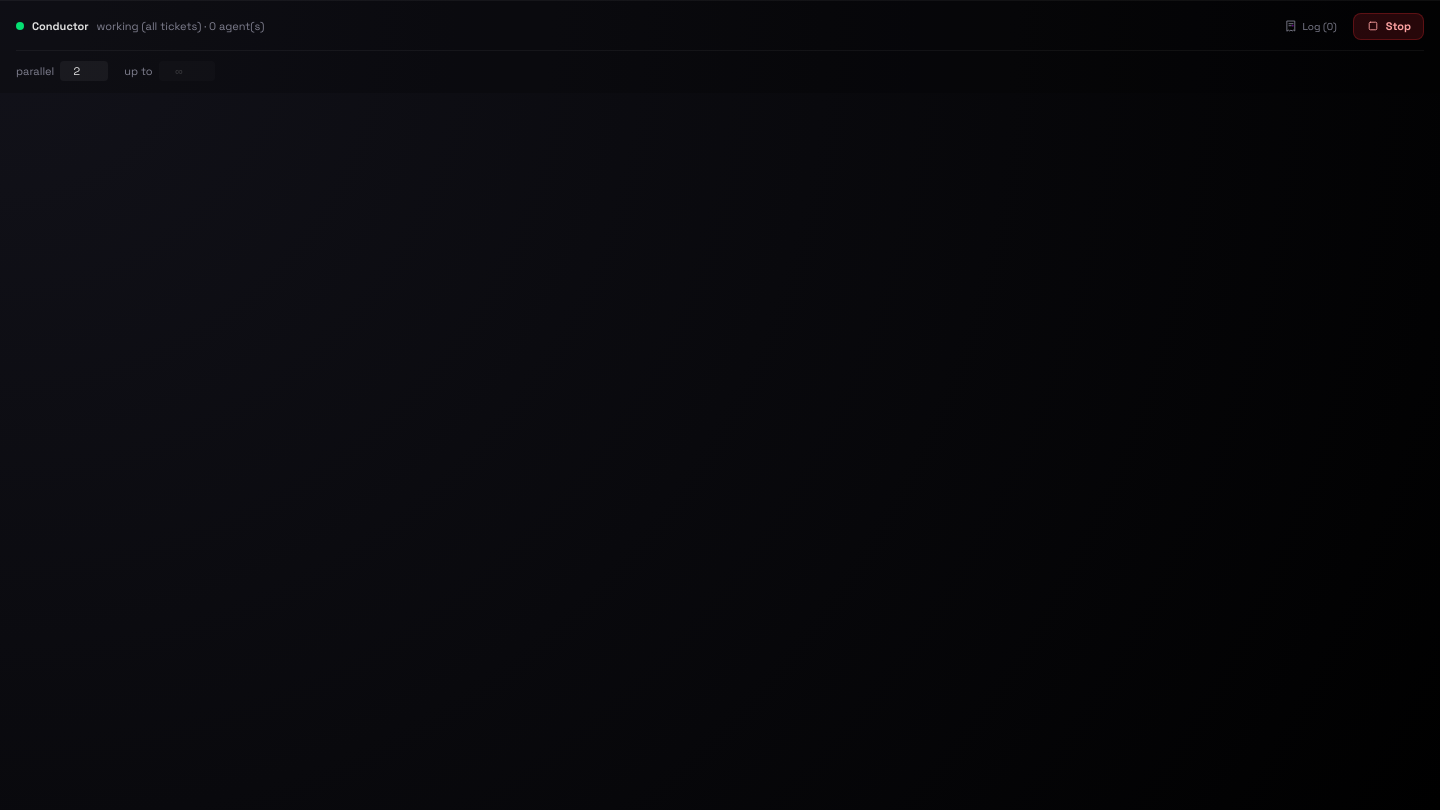
ConductorPanel › stopping a run with agents in flight › asks before killing anything
Step 1. Click the button with test id "conductor-stop-btn" → (1388, 26), box [1353,13,1424,40]
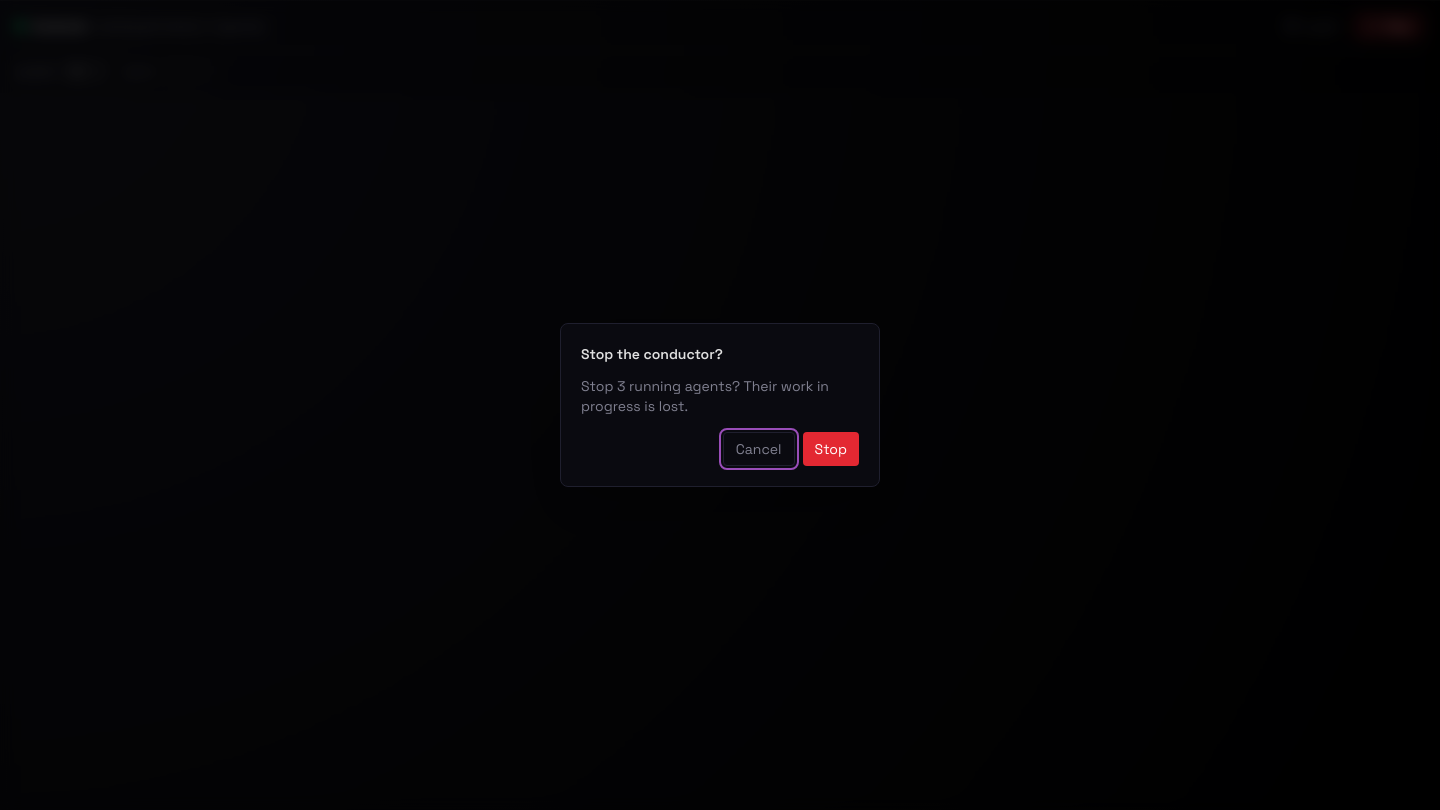
Now the dialog shows "Stop 3 running agents?", box [581,377,829,415]
Now the dialog shows "Their work in progress is lost.", box [581,377,829,415]
